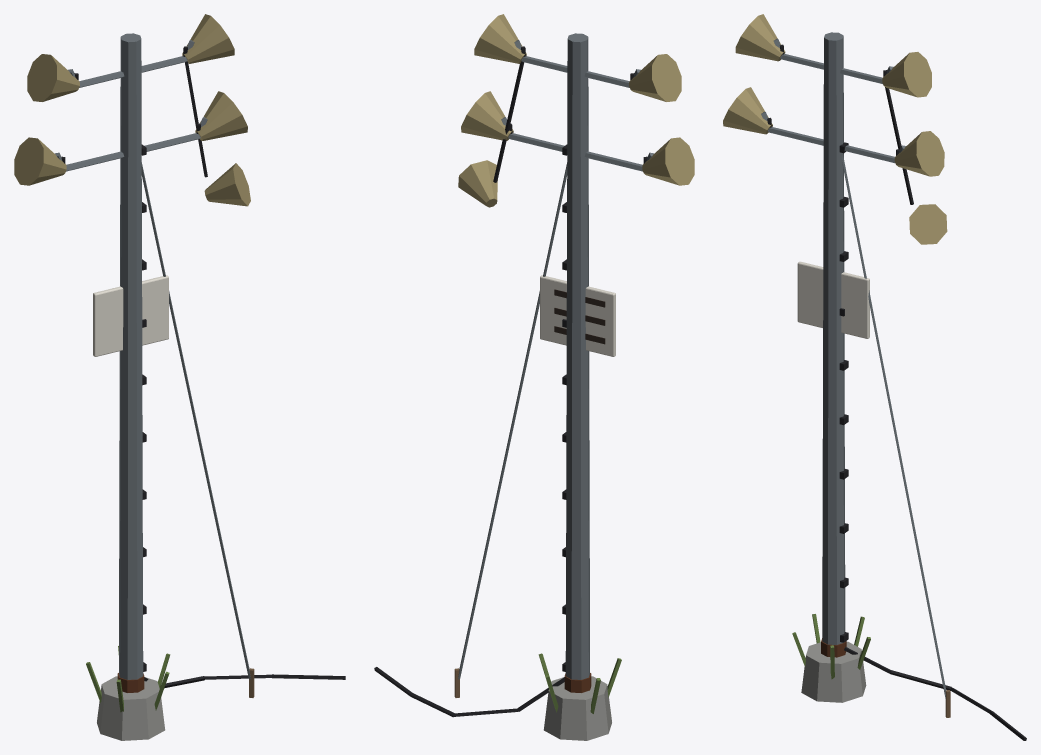
File: loudspeaker_pole.glb
The picture shows the model from 3 angles, left to right: view 1: azimuth 30°, elevation 25°; view 2: azimuth 150°, elevation 25°; view 3: azimuth 330°, elevation 25°; orthographic projection. The views are drawn at different scales.
Parts seen in each view (by area): view 1: loudspeaker_pole; view 2: loudspeaker_pole; view 3: loudspeaker_pole.
Part boxes in pixels (x1,y1,x2,y2): loudspeaker_pole: [14, 14, 345, 740]; loudspeaker_pole: [374, 14, 694, 740]; loudspeaker_pole: [723, 14, 1026, 740].
Size of what is drawn, in the model's own units: 2.92 by 6.02 by 0.7358.
Materials: 3 (3 with a texture image).
